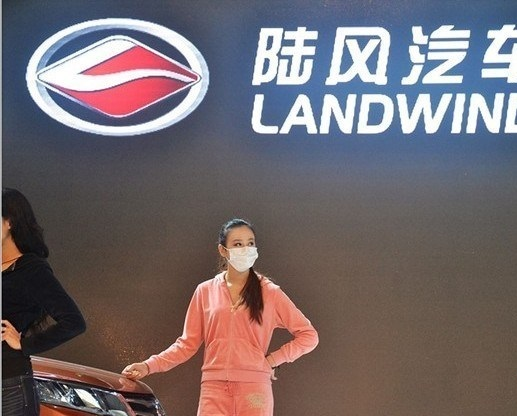face_mask: (229, 230, 258, 274)
